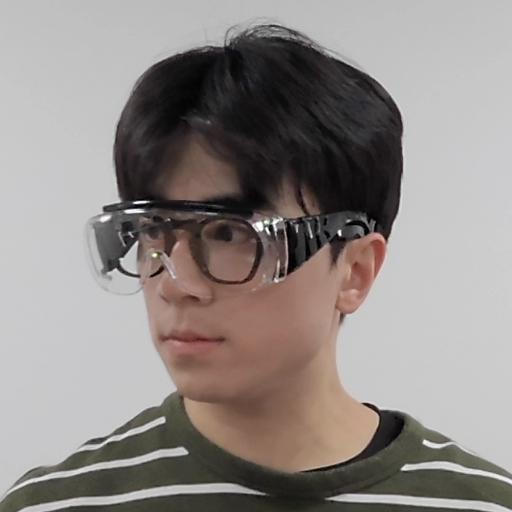glasses: (84, 28, 415, 413)
